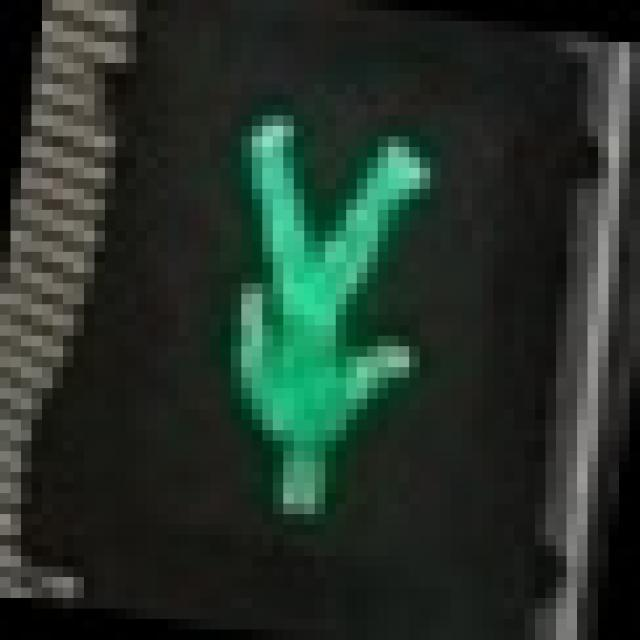geen-crossing: (146, 73, 452, 536)
